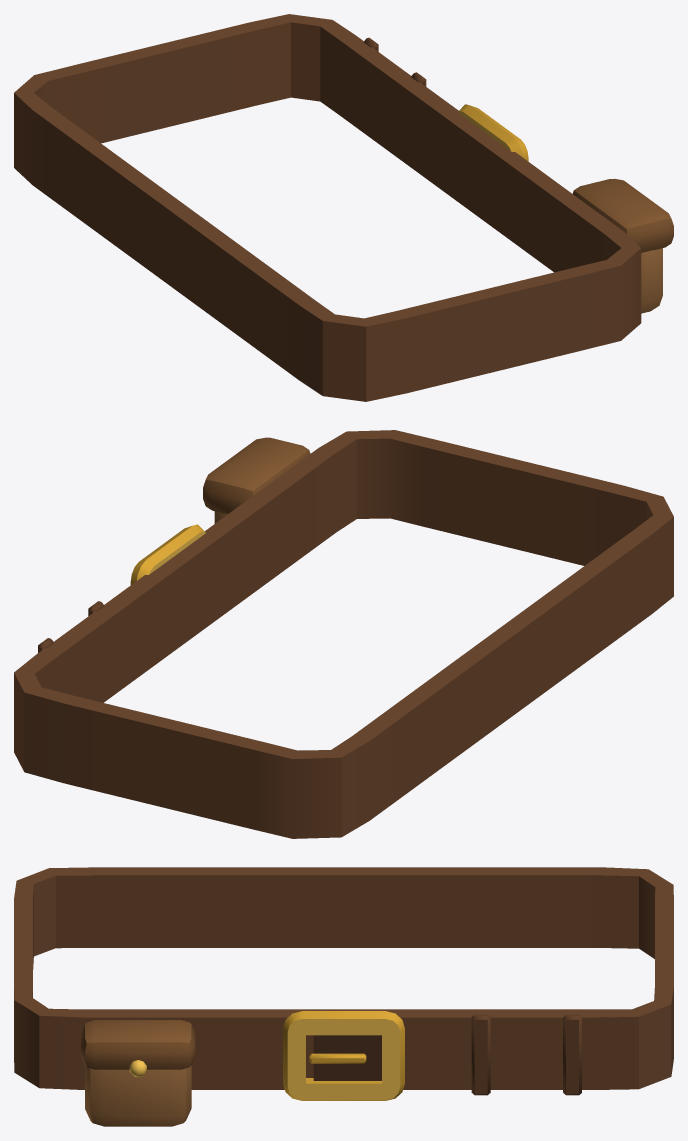
Rendered from detail_belt.glb.
3 views of the same model, one above another, from view 1: azimuth 30°, elevation 25°; view 2: azimuth 150°, elevation 25°; view 3: azimuth 270°, elevation 25° (orthographic). The views are drawn at different scales.
Visible parts, largest first — view 1: detail_belt; view 2: detail_belt; view 3: detail_belt.
Boxes of the visible parts, box(x1,y1,x2,y2) form: detail_belt: box(14, 14, 673, 401); detail_belt: box(14, 430, 673, 838); detail_belt: box(14, 867, 673, 1126).
Size of the model in its own units: 0.5604 by 0.1475 by 0.866.
